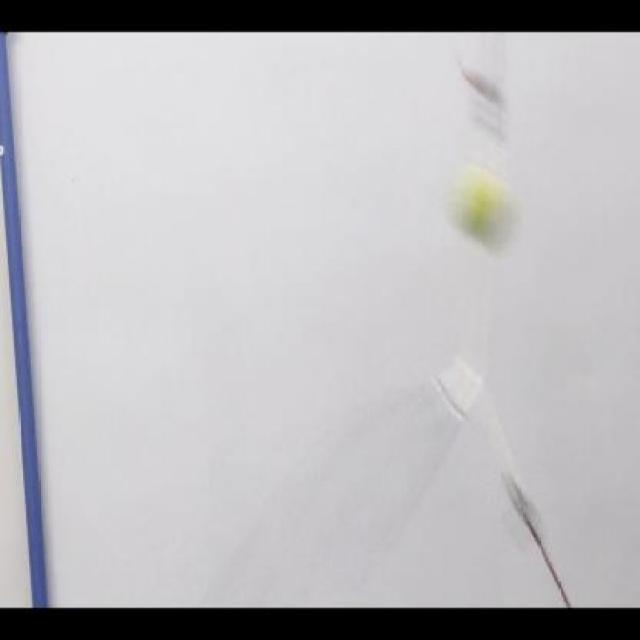baseball: (458, 172, 520, 255)
